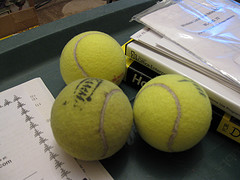tennis ball: (49, 76, 135, 163), (133, 72, 213, 152), (58, 29, 128, 90)
